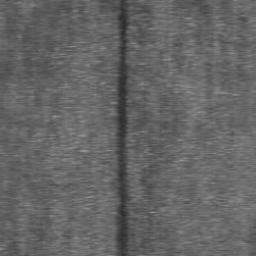Scratches: (115, 0, 129, 256)
